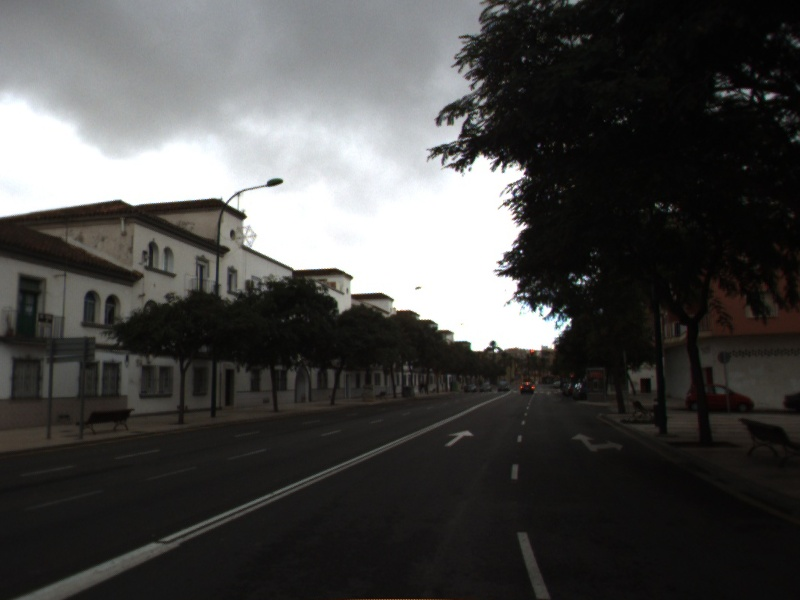STRAIGHT: (443, 428, 476, 447)
STRAIGHT_RIGHT: (570, 431, 624, 453)
